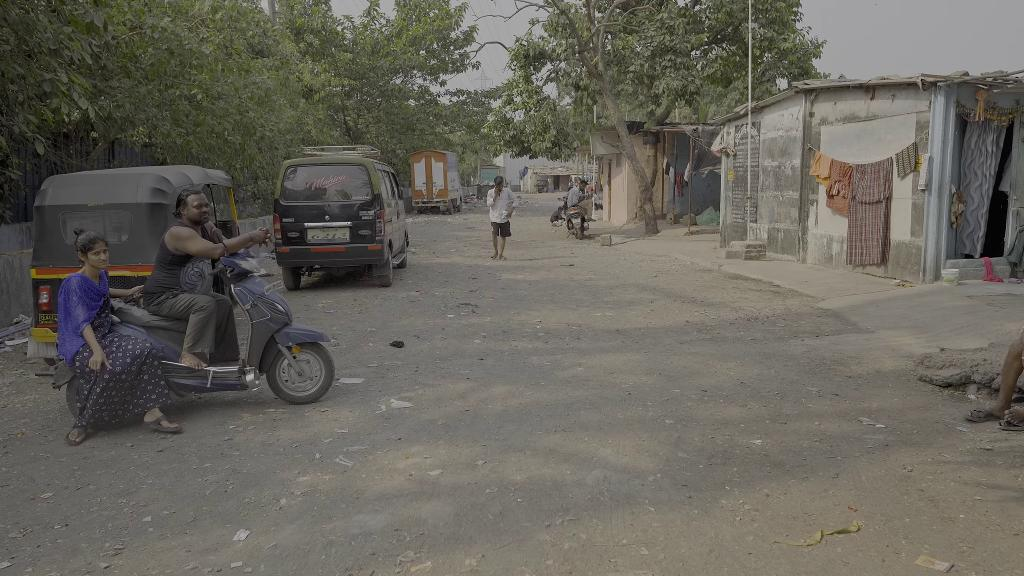garbage: (390, 339, 407, 350)
